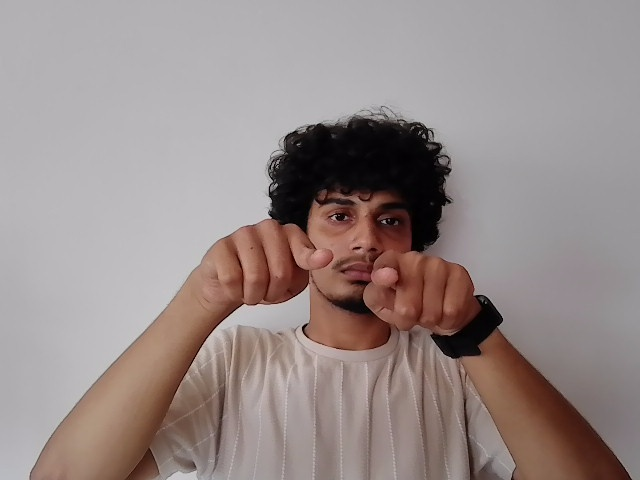same: (209, 219, 470, 329)
